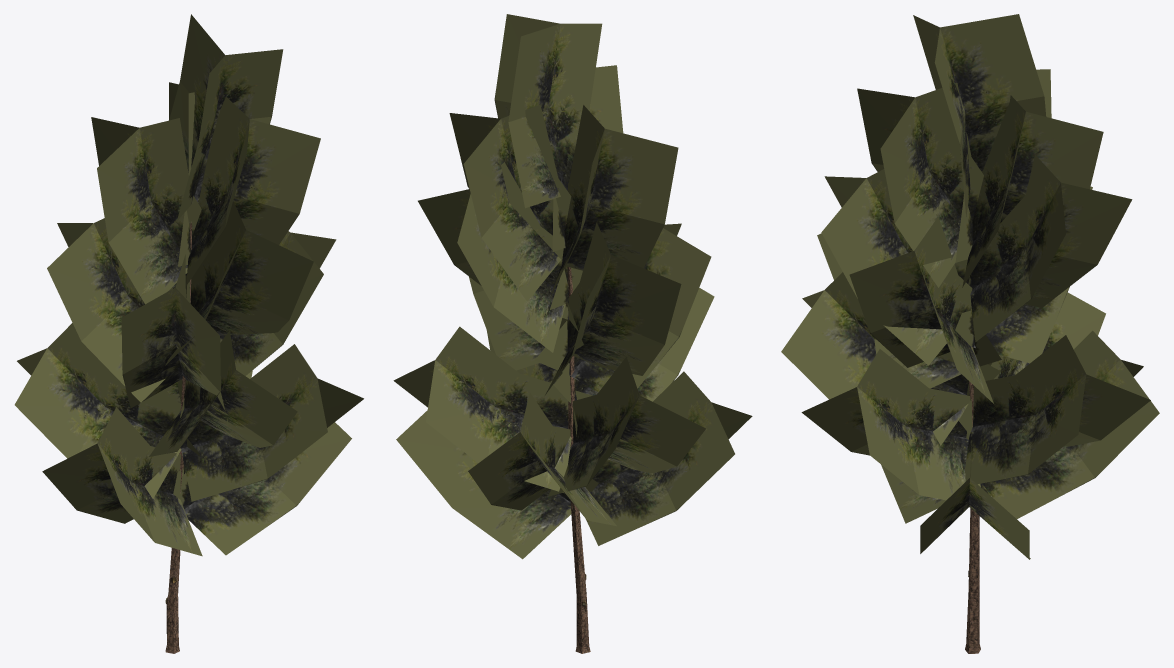
File: baum hd pine fbx (5) 1 (1).fbx
3 renders of one model, left to right at view 1: azimuth 30°, elevation 25°; view 2: azimuth 150°, elevation 25°; view 3: azimuth 270°, elevation 25°, orthographic. The views are drawn at different scales.
Visible parts, largest first — view 1: baum_hd_pine_fbx__5__1; view 2: baum_hd_pine_fbx__5__1; view 3: baum_hd_pine_fbx__5__1.
Part boxes in pixels (<box>): baum_hd_pine_fbx__5__1: <box>14,14,363,653</box>; baum_hd_pine_fbx__5__1: <box>393,14,752,653</box>; baum_hd_pine_fbx__5__1: <box>781,14,1159,653</box>.
Bounding box in the file's own units: 265 × 520 × 271.
